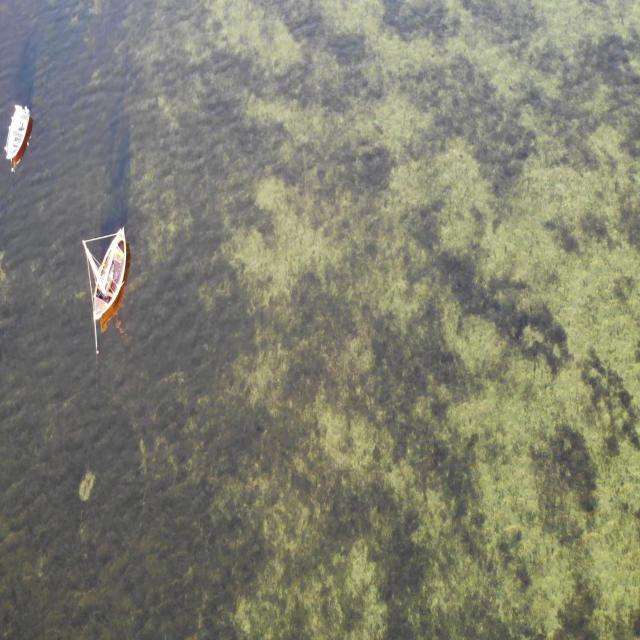boat: (4, 104, 32, 170)
sailboat: (82, 219, 128, 326)
